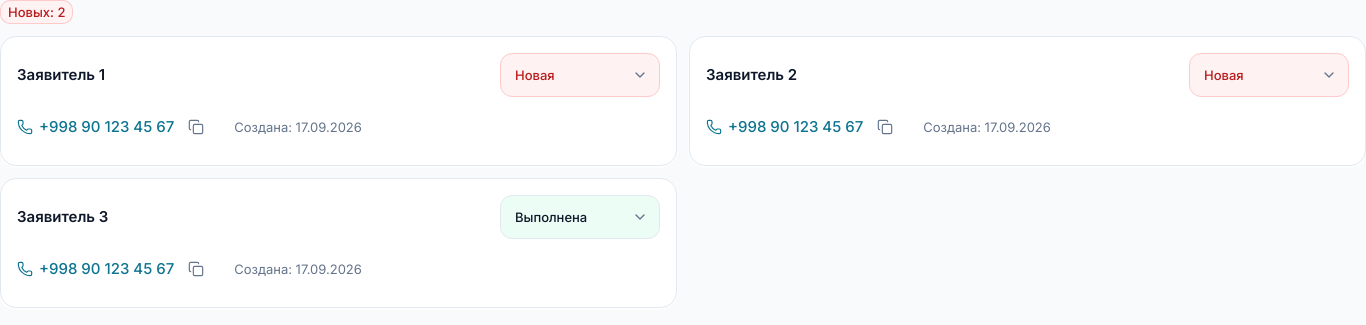
RequestsTable › счётчик новых считает и ещё не сохранённый выбор
Expected: the text "Новых: 2" is shown, [0,0,74,24]
Select "Связались" in the dropdown named "Статус заявки" in the row of "Заявитель 2" at (1269, 75), box [1189,53,1349,97]
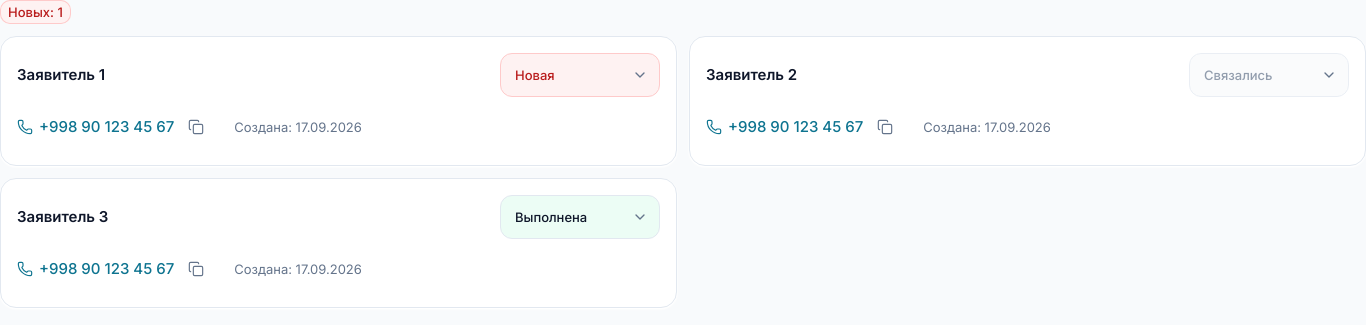
Expected: the text "Новых: 1" is shown, [0,0,71,24]
